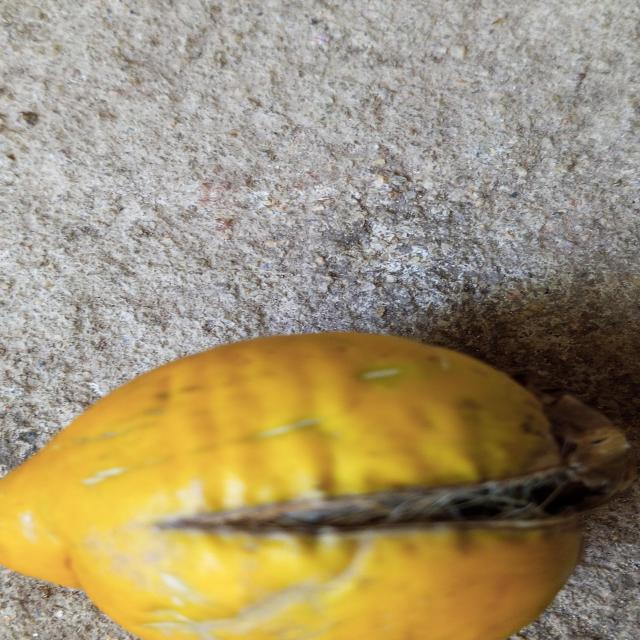damaged: (0, 332, 627, 640)
